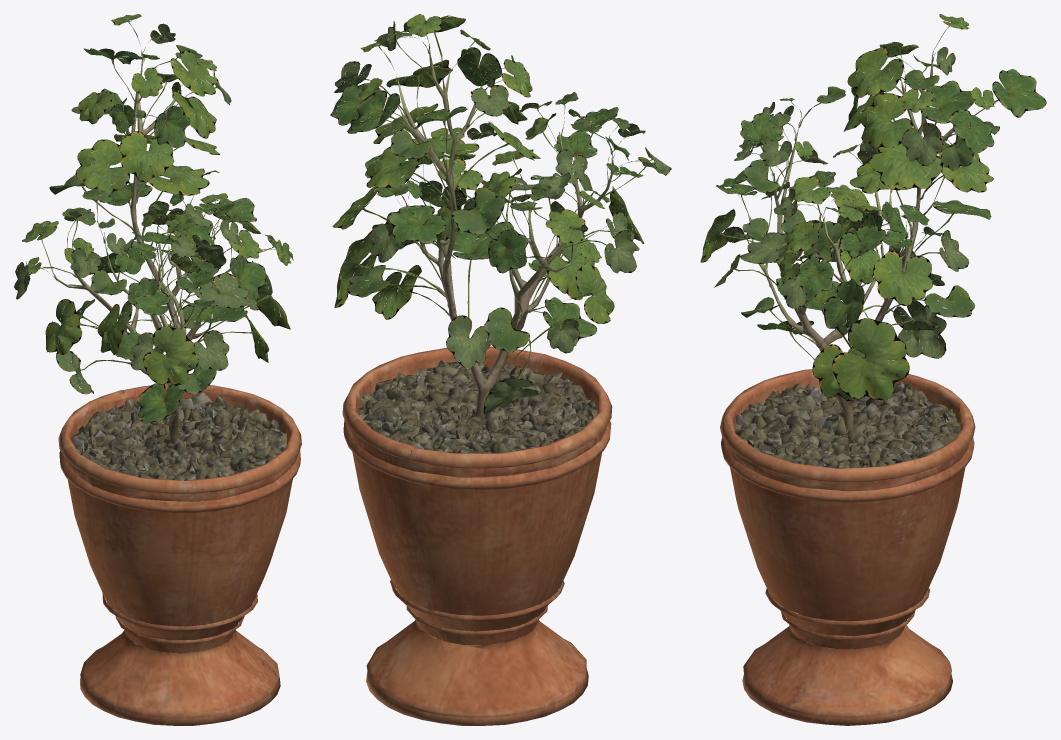
Rendered from plant_tall.glb.
3 views of the same model, side by side, from view 1: azimuth 30°, elevation 25°; view 2: azimuth 150°, elevation 25°; view 3: azimuth 270°, elevation 25° (orthographic). The views are drawn at different scales.
Visible parts, largest first — view 1: plant_tall; view 2: plant_tall; view 3: plant_tall.
Boxes of the visible parts, x1,y1,x2,y2 form: plant_tall: (14, 14, 301, 725); plant_tall: (330, 14, 671, 725); plant_tall: (700, 14, 1046, 725).
Size of the model in its own units: 0.5871 by 1.34 by 0.633.
Materials: 2 (2 with a texture image).
